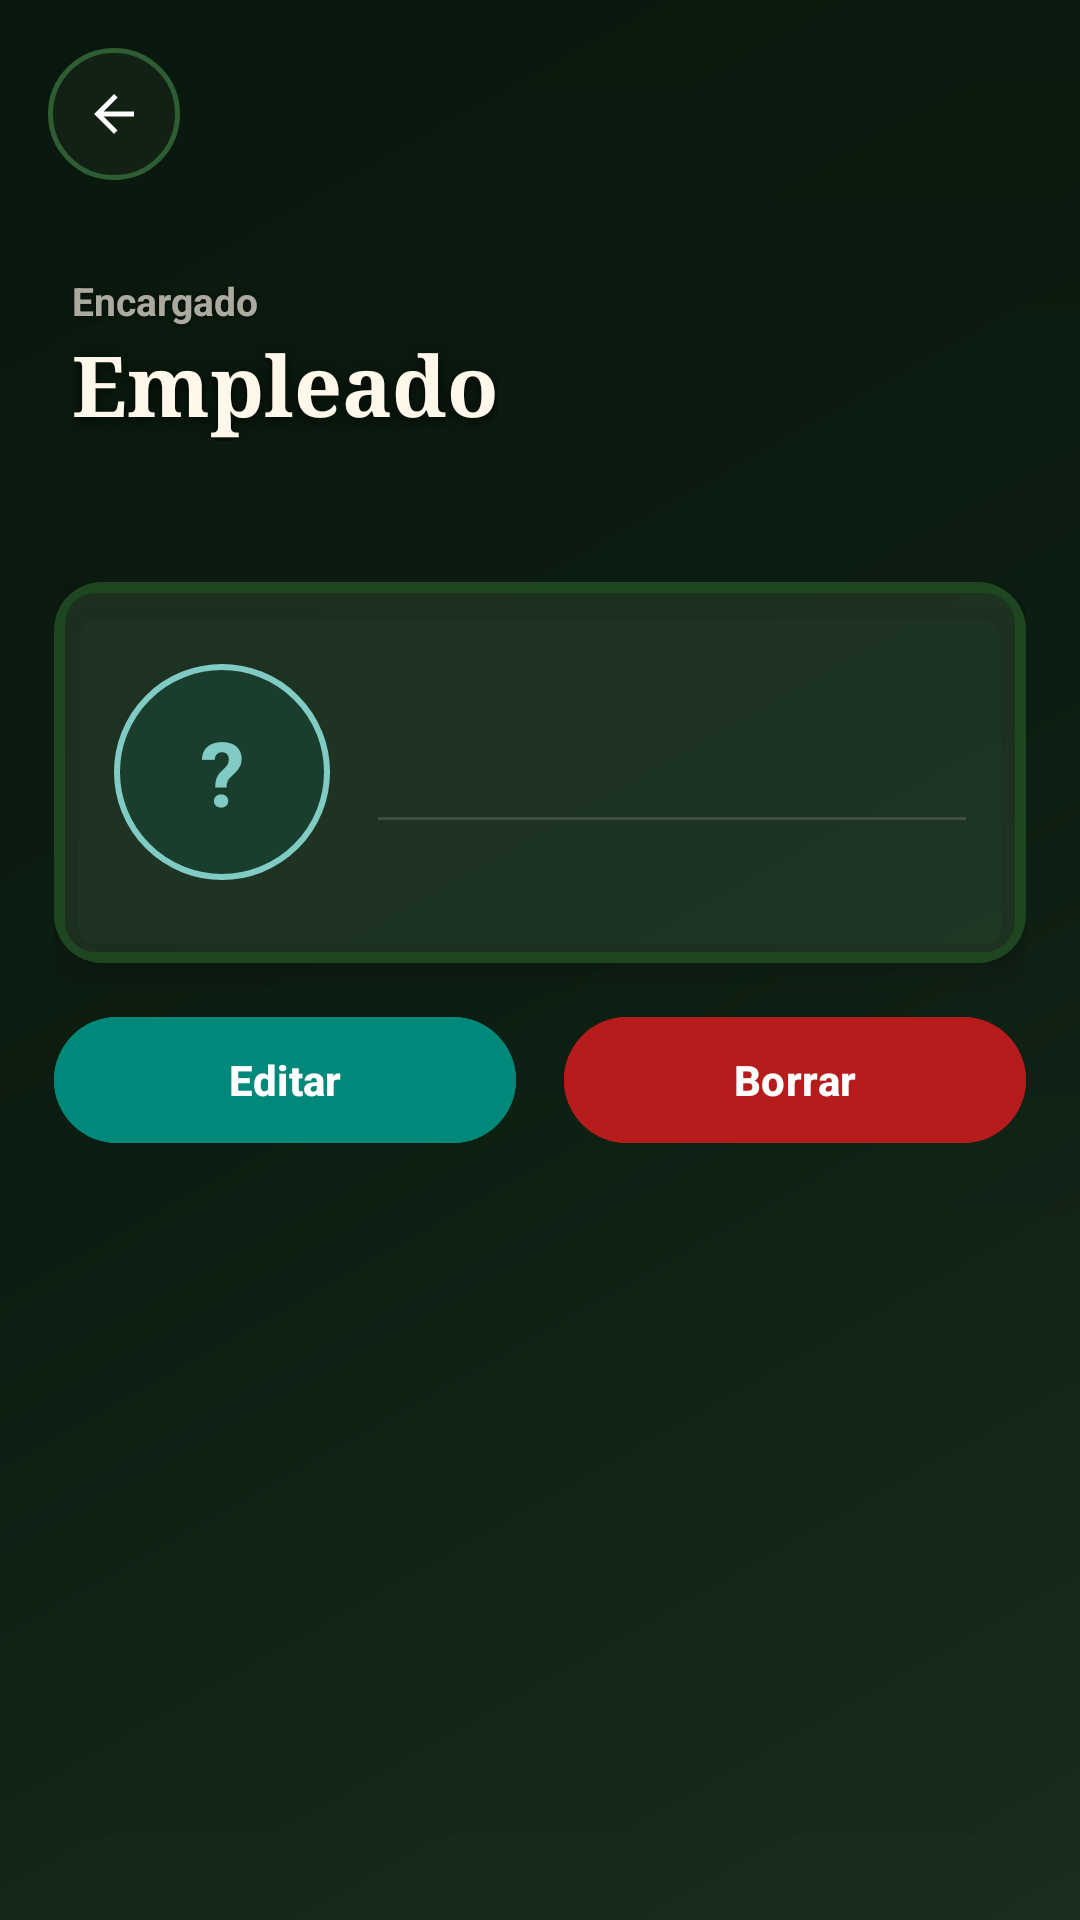

Screen size 1080w x 1920h. Icon name, then its box in pixels as (x1, y1, x2, y2):
arrow back: (48, 48, 180, 180)
